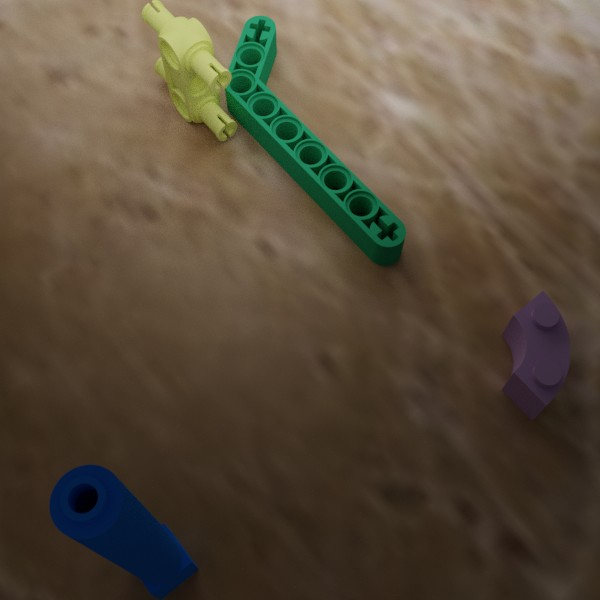lego: (224, 15, 406, 265), (49, 464, 198, 599), (141, 0, 237, 140), (501, 290, 570, 421)
